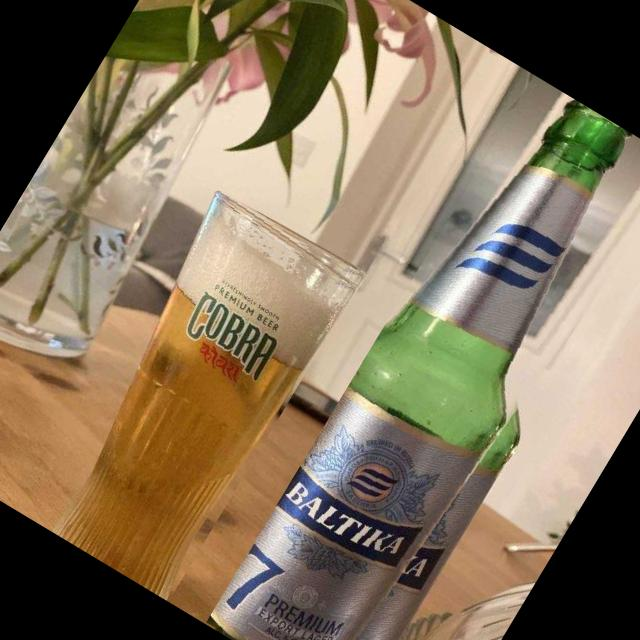Glass: (205, 75, 640, 640), (21, 183, 367, 602)
